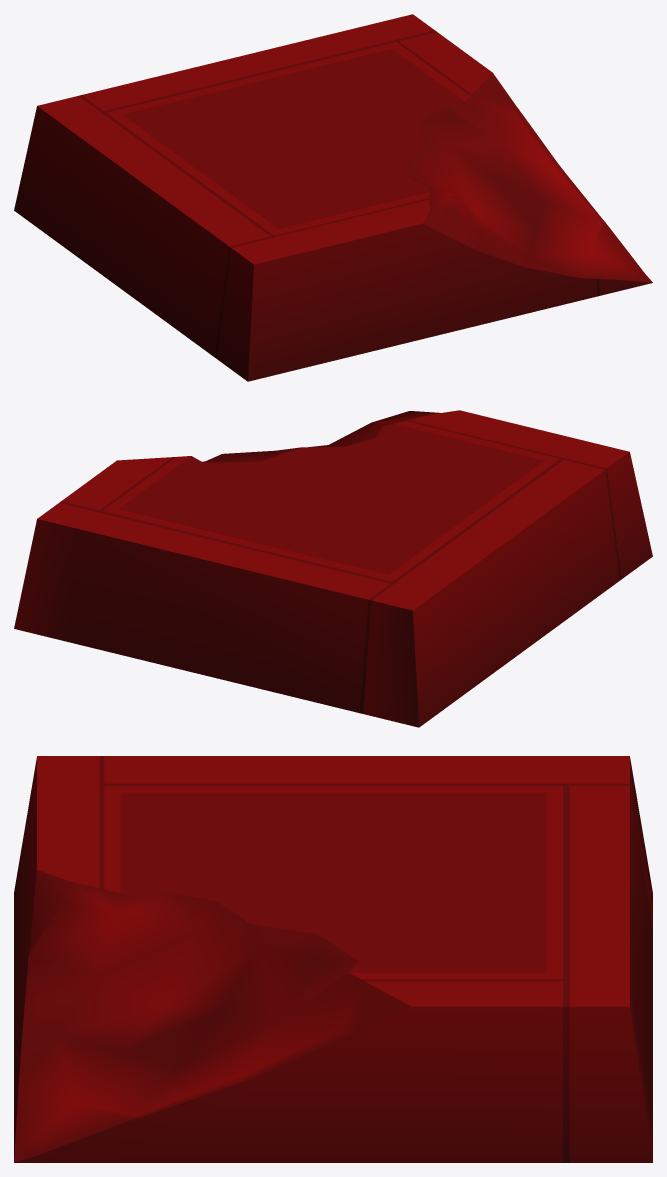
The model's file is geology-landforms-citysidewalktile_v4.fbx.
The picture shows the model from 3 angles, top to bottom: view 1: azimuth 30°, elevation 25°; view 2: azimuth 150°, elevation 25°; view 3: azimuth 270°, elevation 25°; orthographic projection. The views are drawn at different scales.
Parts seen in each view (by area): view 1: CitySidewalkTile_v4; view 2: CitySidewalkTile_v4; view 3: CitySidewalkTile_v4.
Part boxes in pixels (box(x1,y1,x2,y2)): CitySidewalkTile_v4: box(14, 14, 652, 381); CitySidewalkTile_v4: box(14, 410, 652, 727); CitySidewalkTile_v4: box(14, 756, 652, 1162).
Bounding box in the file's own units: 9.08 × 2.67 × 9.08.
